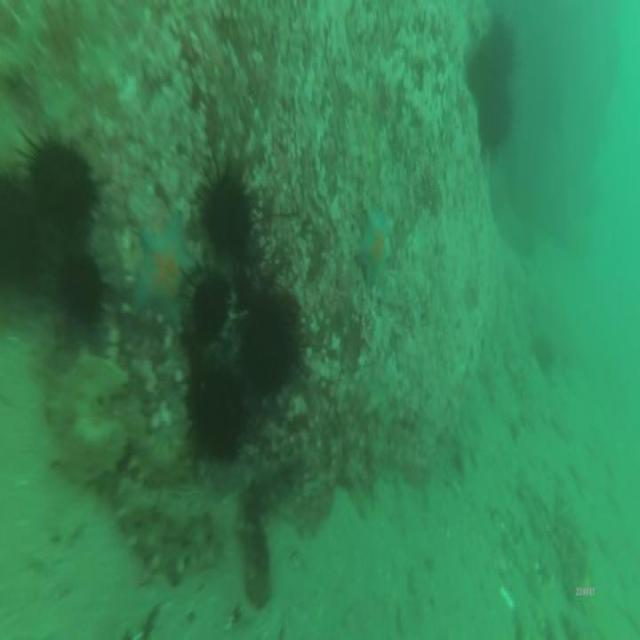echinus: (12, 118, 108, 235), (231, 283, 301, 408), (192, 142, 260, 266), (188, 356, 254, 466), (0, 166, 43, 302), (180, 259, 238, 351), (52, 242, 108, 333), (473, 82, 517, 157), (463, 36, 502, 108), (487, 11, 517, 76), (528, 327, 556, 378)
holothurian: (114, 468, 225, 584), (45, 354, 134, 491), (237, 499, 271, 613)
starfish: (127, 202, 197, 344), (354, 195, 393, 292)
